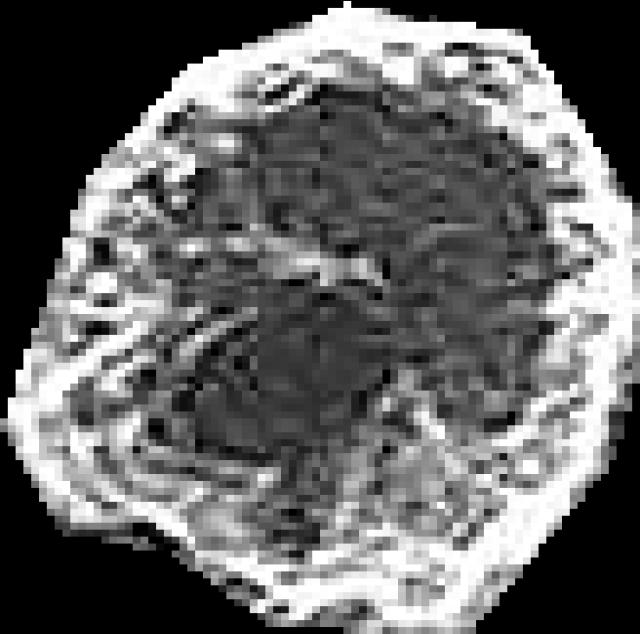tumor_good_chance: (0, 1, 640, 634)
